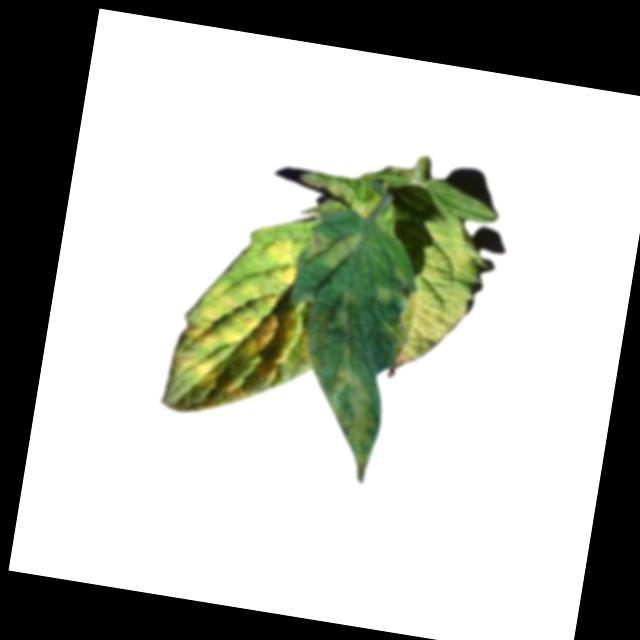Leaf_Mold: (162, 270, 320, 431), (387, 224, 486, 377), (319, 338, 391, 474), (305, 227, 370, 277), (258, 231, 303, 288), (331, 285, 360, 334)
